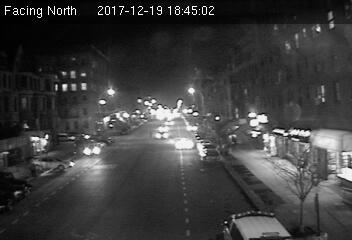car: (83, 143, 104, 157), (174, 138, 194, 150), (153, 129, 169, 140)
police: (220, 209, 290, 240)
